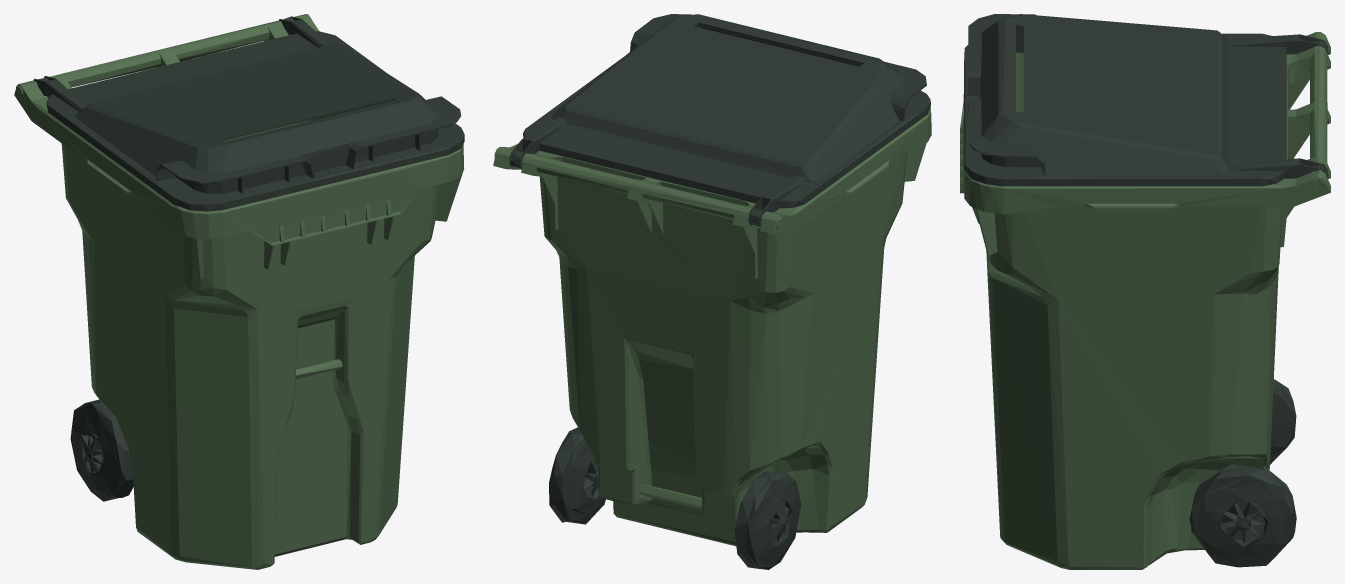
The model's file is wheelie-bin.glb.
3 views of the same model, side by side, from view 1: azimuth 30°, elevation 25°; view 2: azimuth 150°, elevation 25°; view 3: azimuth 270°, elevation 25° (orthographic). The views are drawn at different scales.
Visible parts, largest first — view 1: NVIDIA wheelie bin · simplified; view 2: NVIDIA wheelie bin · simplified; view 3: NVIDIA wheelie bin · simplified.
Boxes of the visible parts, left/top/right/bottom form: NVIDIA wheelie bin · simplified: left=14, top=14, right=464, bottom=569; NVIDIA wheelie bin · simplified: left=493, top=14, right=931, bottom=569; NVIDIA wheelie bin · simplified: left=960, top=14, right=1330, bottom=569.
Bounding box in the file's own units: 0.8156 × 1.15 × 0.8564.
